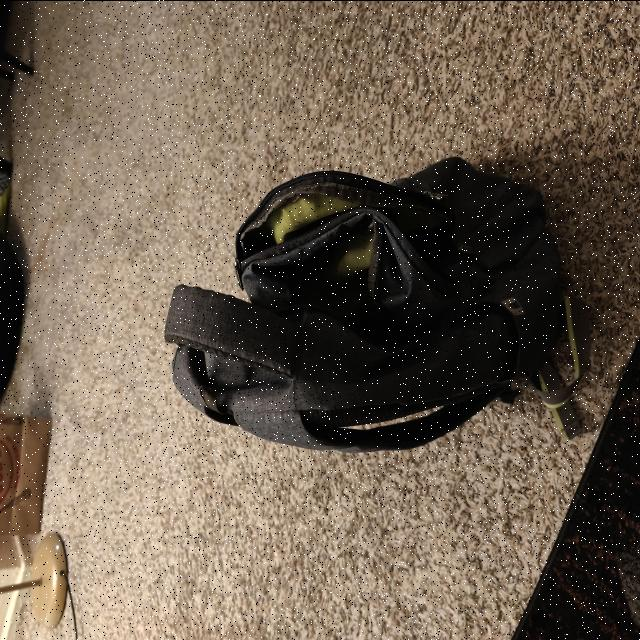bag: (206, 209, 576, 415)
